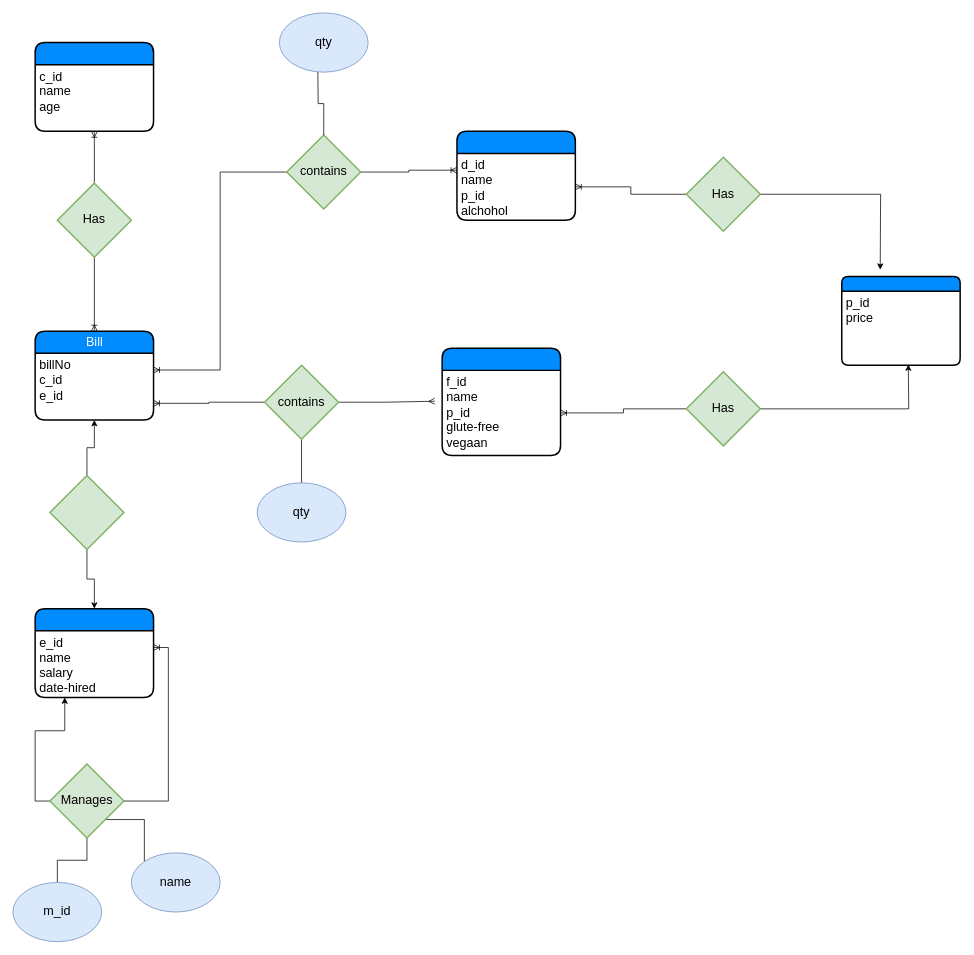
Image size: 974x955. Some labels were removed from this diagram. The box of each missing label's shape, as (x1, y1, x2, y2) in pixels:
Customer: (34, 41, 154, 132)
Drinks: (456, 130, 576, 221)
Employee: (34, 608, 154, 698)
Food: (441, 347, 561, 456)
PriceTable: (841, 275, 961, 366)
serves: (49, 474, 124, 550)
